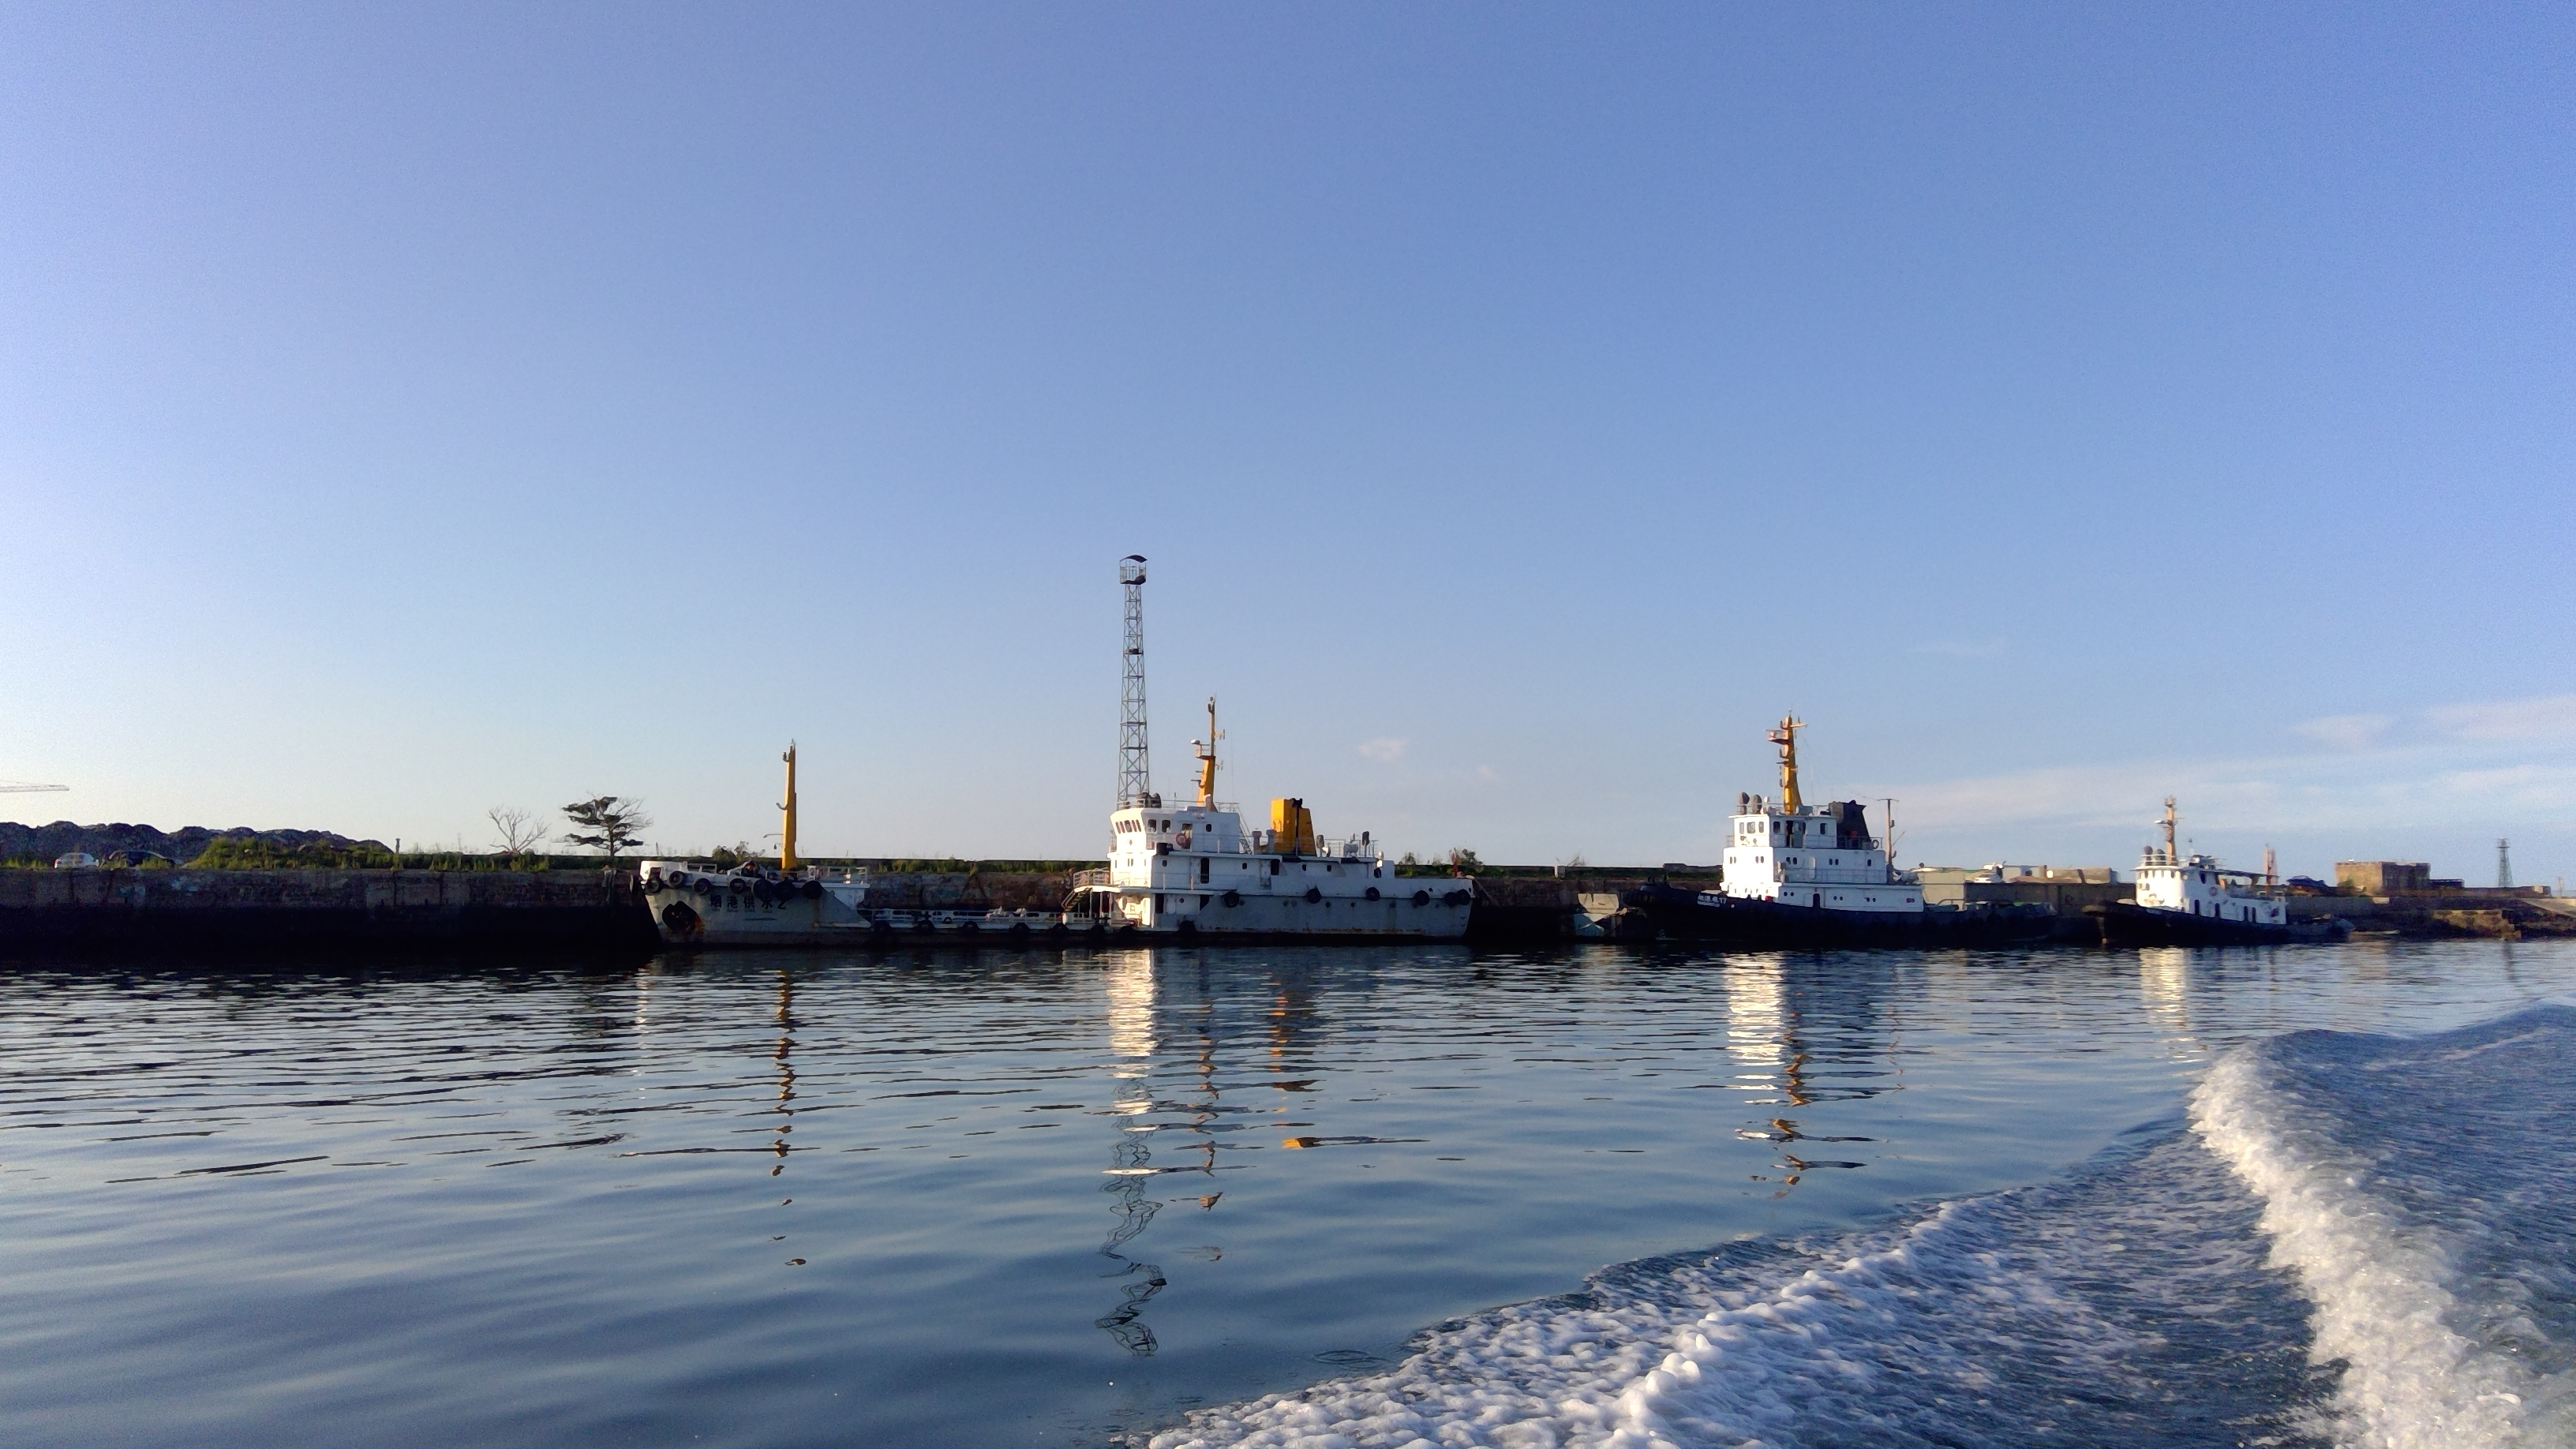ship: (1044, 777, 1520, 943), (1598, 793, 1978, 959), (623, 809, 1063, 941), (2052, 810, 2318, 962)
